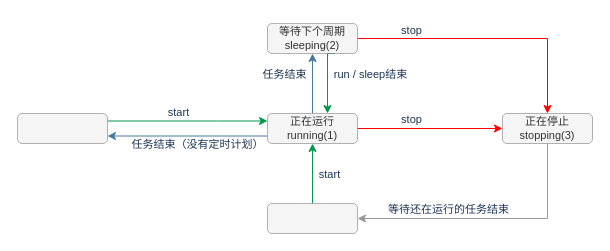
This 610x251 diagram has some shape labels left out. The shapes that lost their labels are listed below. From the top down, each one's centre as x and y in pixels, then its label:
(x=62, y=128): 初始化 inited(0)
(x=312, y=218): 已经停止 stopped(4)
